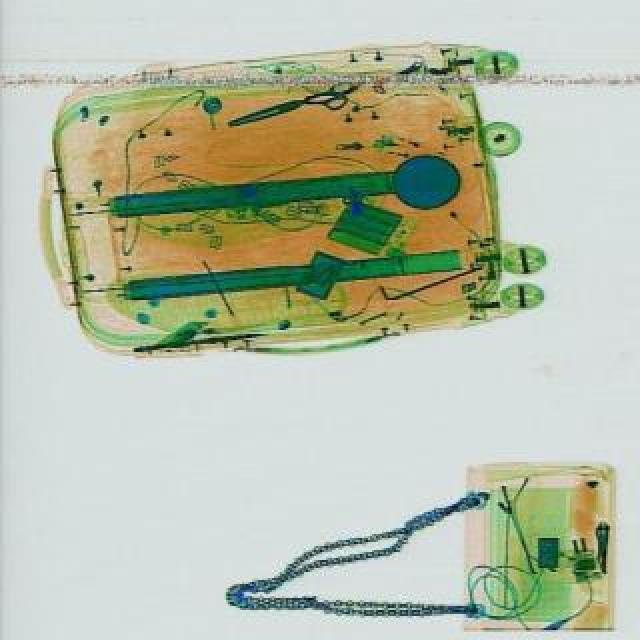pliers: (222, 78, 360, 138)
